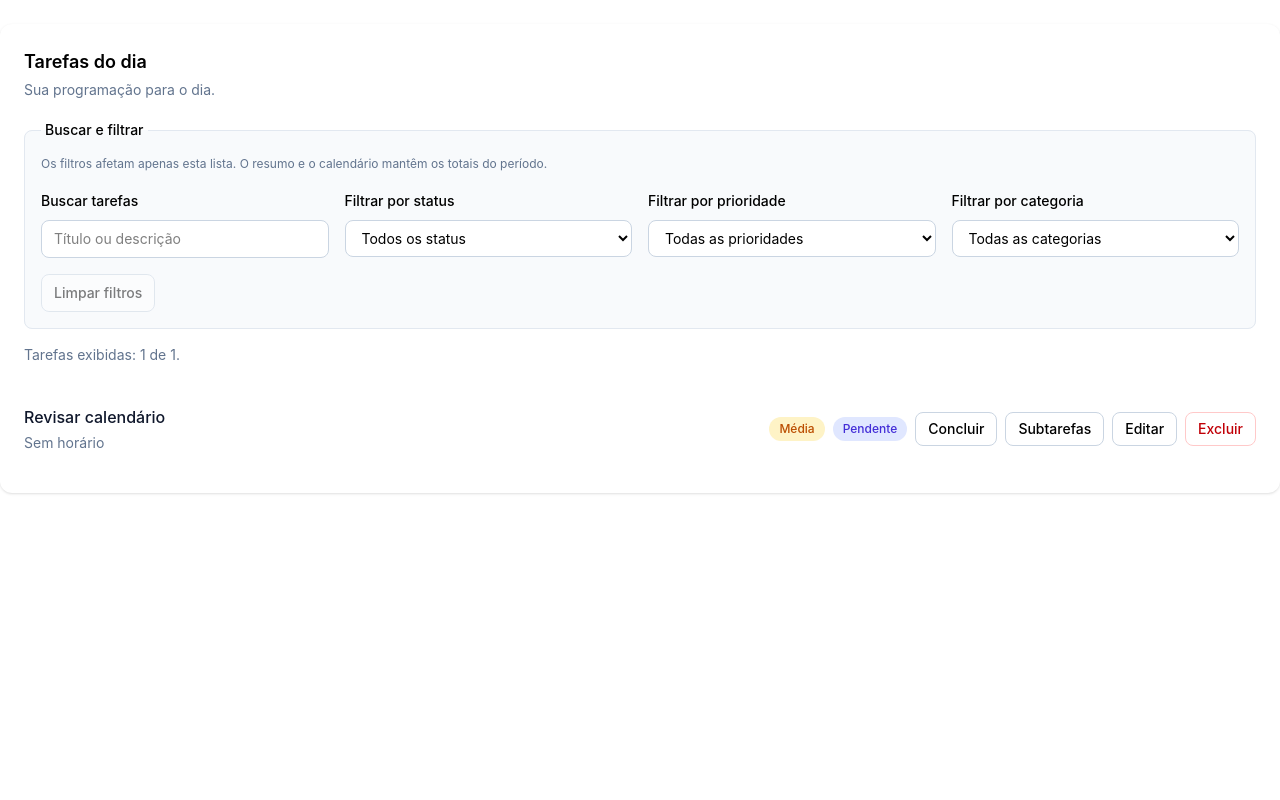
Test: TasksList filters › exige confirmação para excluir e preserva a tarefa se cancelar ou houver erro
Expected: the text "Revisar calendário" is shown, [24, 405, 165, 429]
Click the button "Excluir" at [1221, 429], box [1185, 412, 1256, 446]
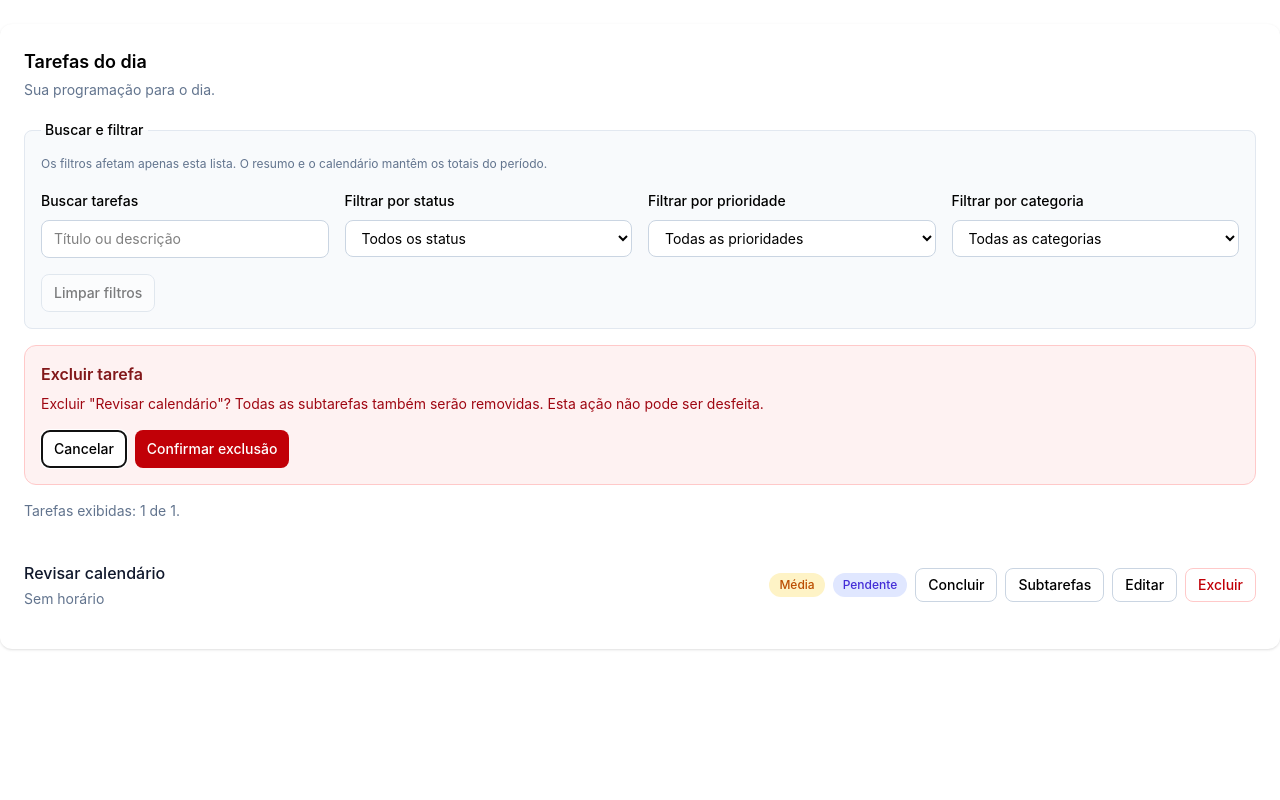
Expected: the text "Todas as subtarefas também serão removidas" is shown, [41, 395, 764, 412]
Click the button "Cancelar" at [84, 449], box [41, 430, 127, 468]
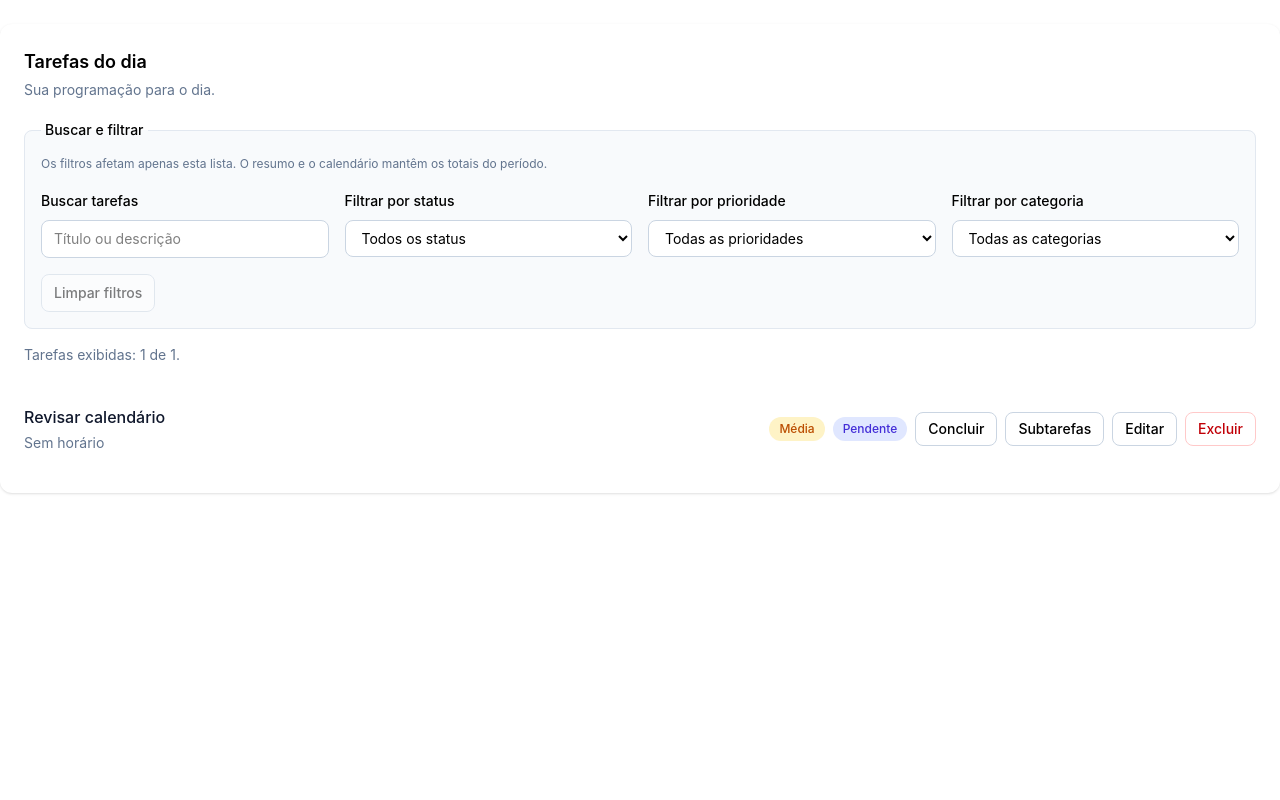
Expected: the heading "Excluir tarefa" is gone
Click the button "Excluir" at [1221, 429], box [1185, 412, 1256, 446]
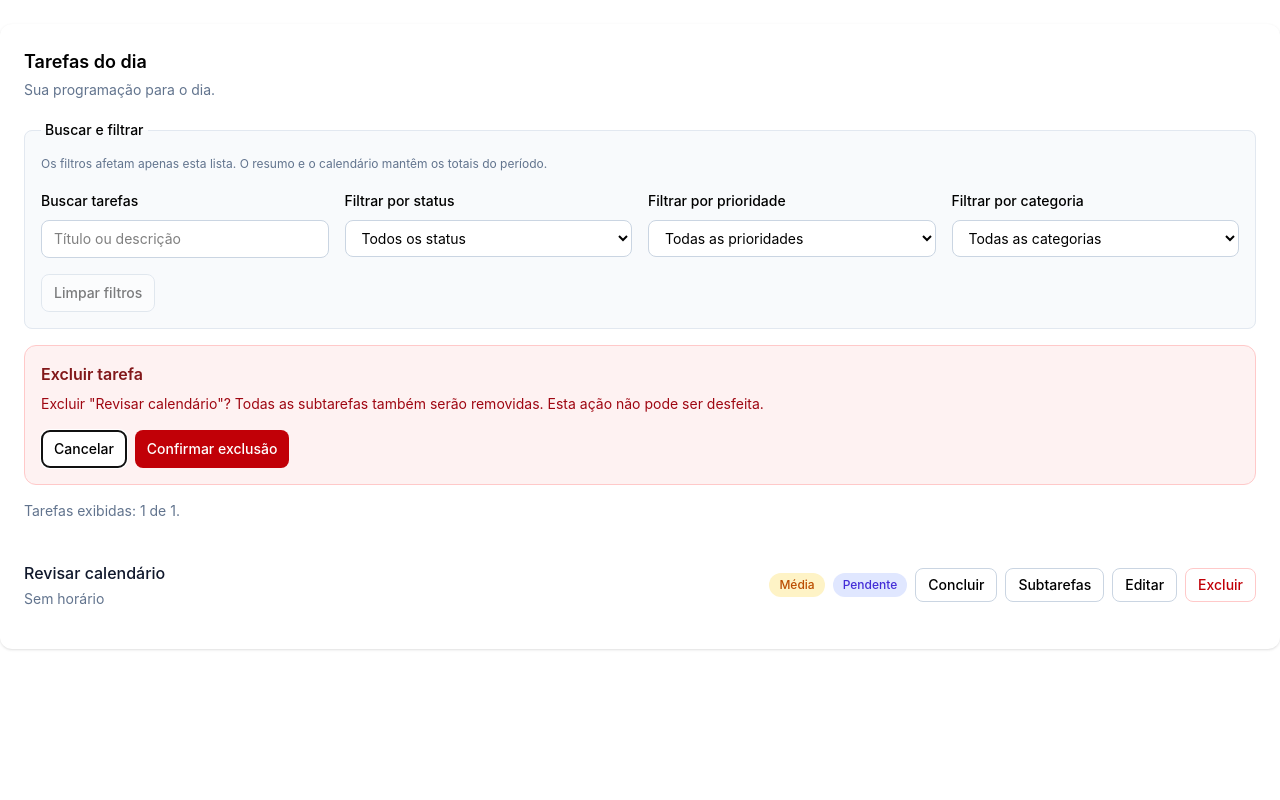
Click the button "Confirmar exclusão" at [212, 449], box [135, 430, 289, 468]
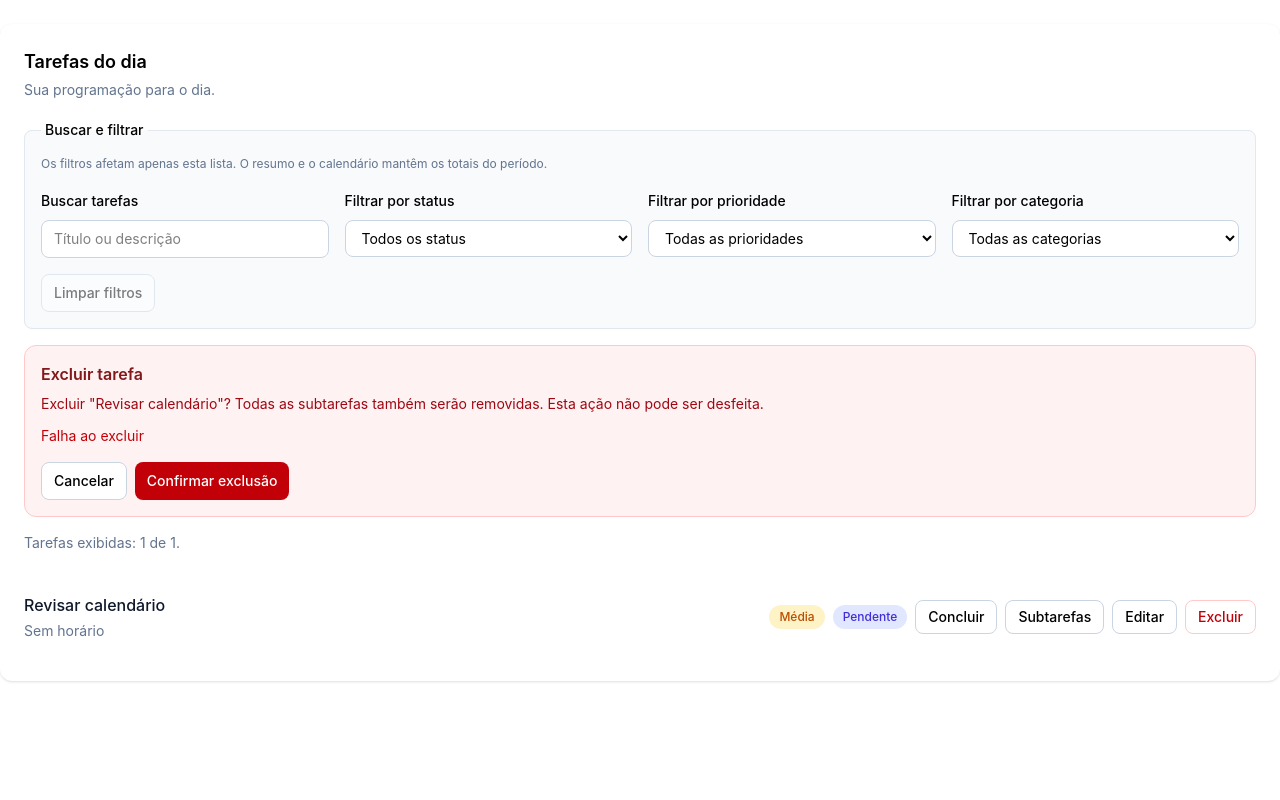
Expected: the text "Revisar calendário" is shown, [24, 593, 165, 617]
Expected: the message "Falha ao excluir" is shown, [41, 427, 144, 444]
Click the button "Confirmar exclusão" at [212, 481], box [135, 462, 289, 500]
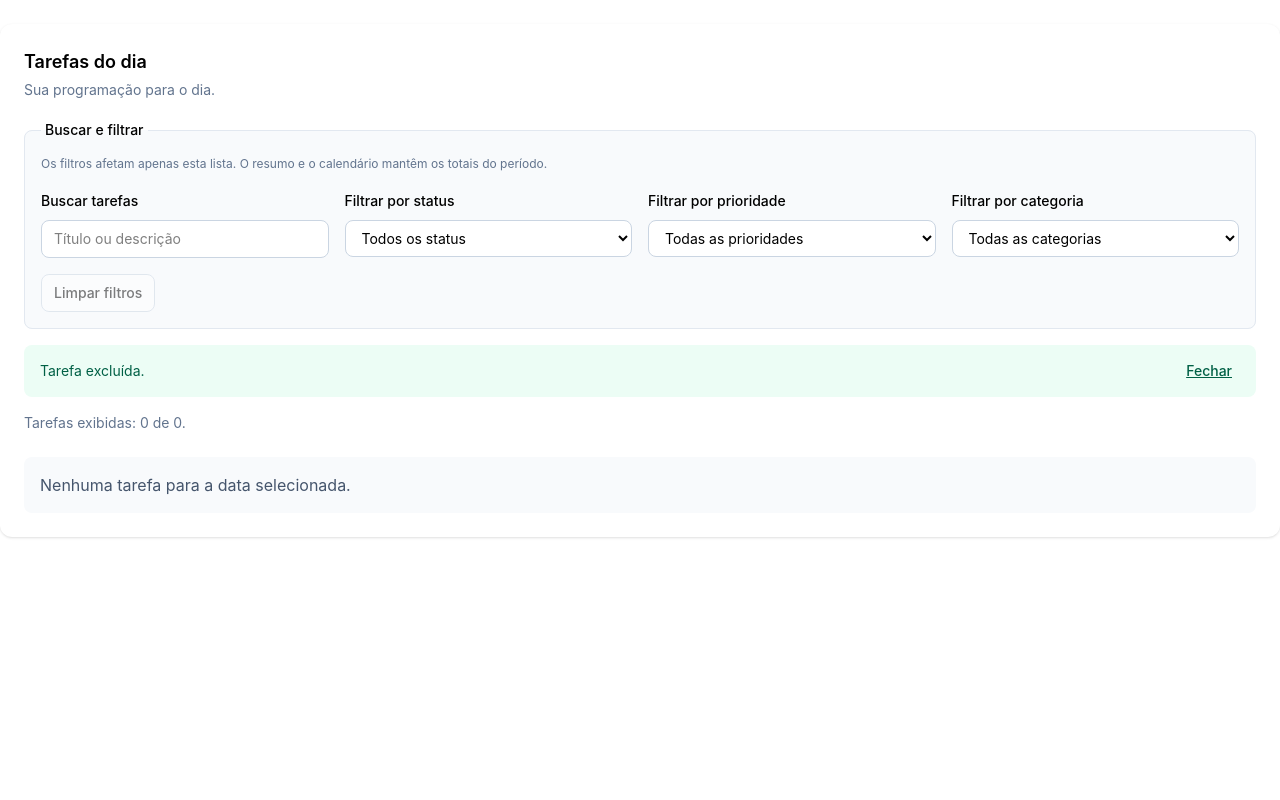
Expected: the text "Tarefa excluída." is shown, [40, 361, 144, 381]
Expected: the heading "Excluir tarefa" is gone
Expected: the text "Revisar calendário" is gone
Click the button with aria-label "Dispensar mensagem de sucesso" at [1209, 371], box [1178, 361, 1240, 381]
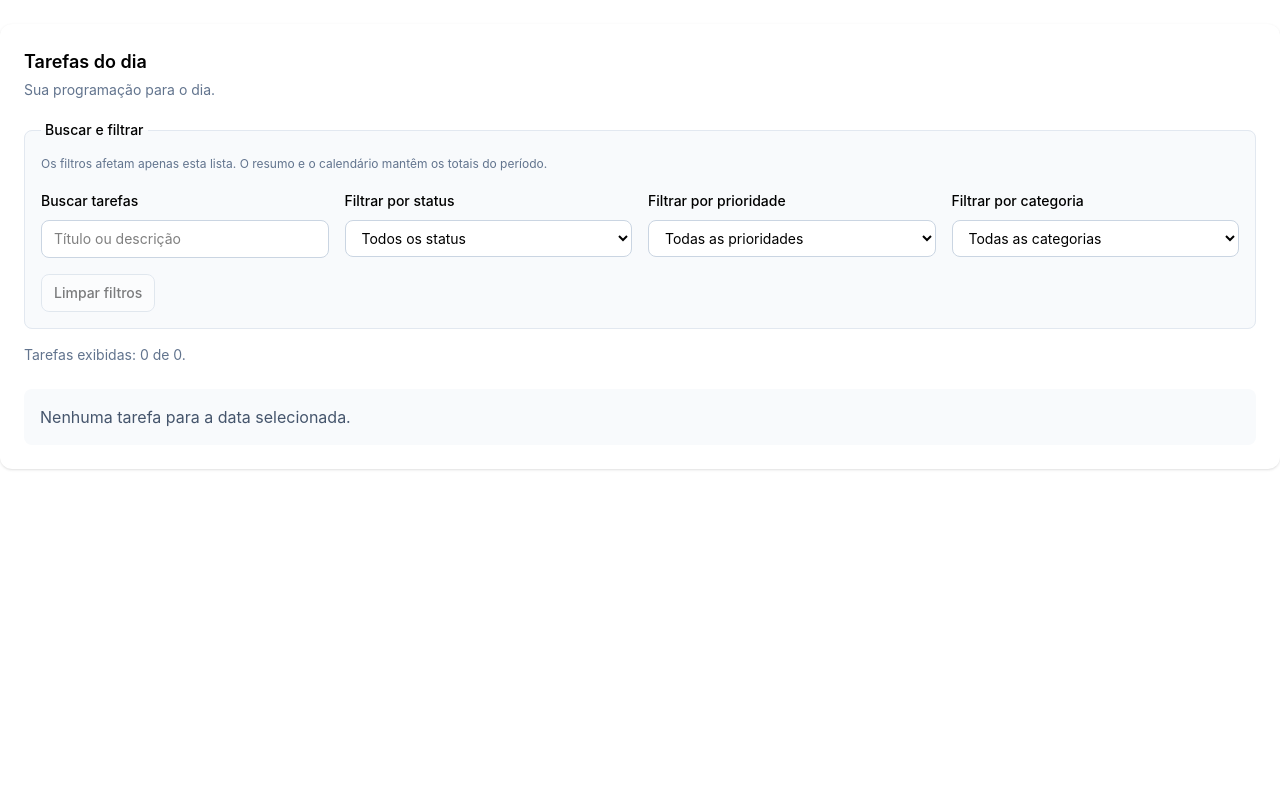
Expected: the text "Tarefa excluída." is gone
